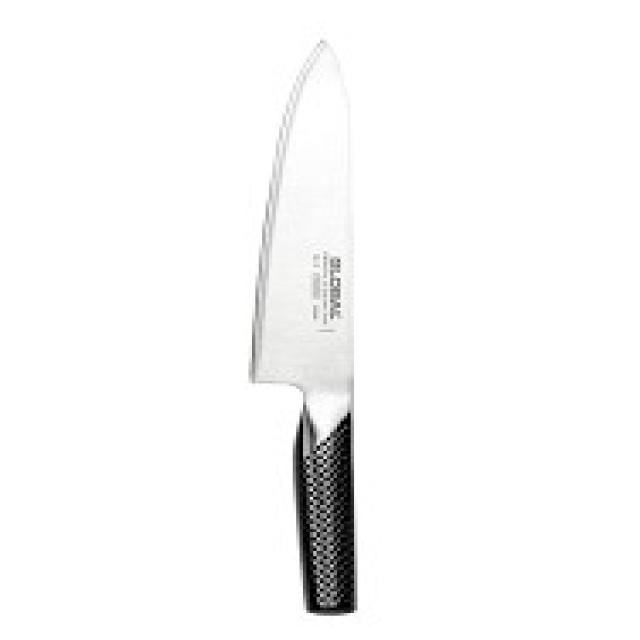knife: (247, 35, 368, 623)
